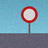sign: (21, 6, 38, 36)
